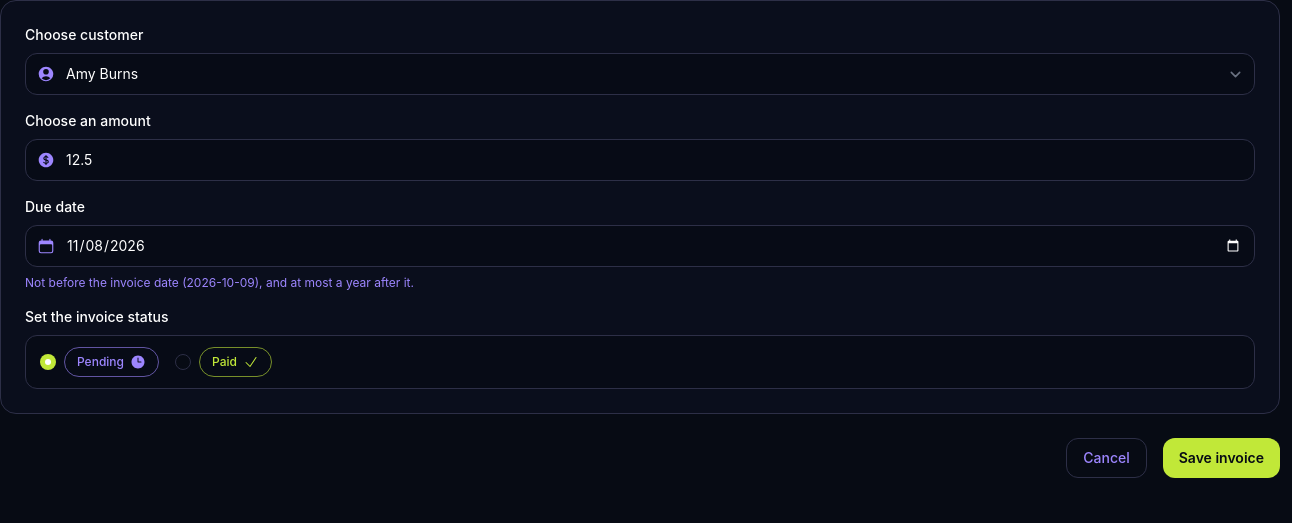
the invoice edit form › refuses a negative amount beside the field, and writes nothing
This screenshot has width=1292, height=523.
Replace the text in the number field labelled "Choose an amount" with "-5" at (640, 160), box [25,139,1255,181]
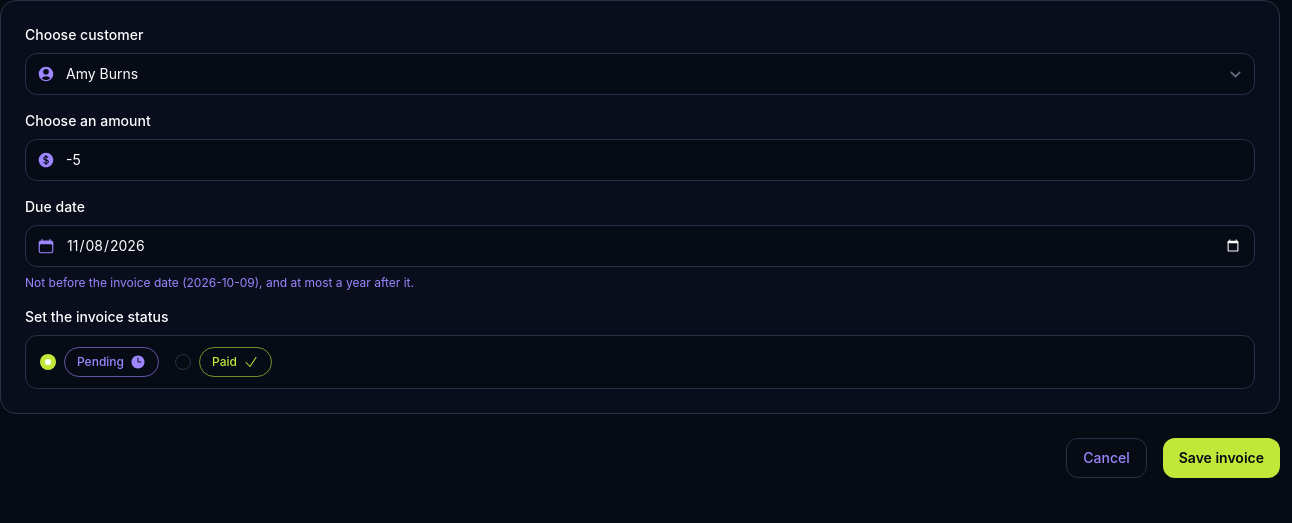
Click the button "Save invoice" at (1221, 458), box [1163,438,1280,478]
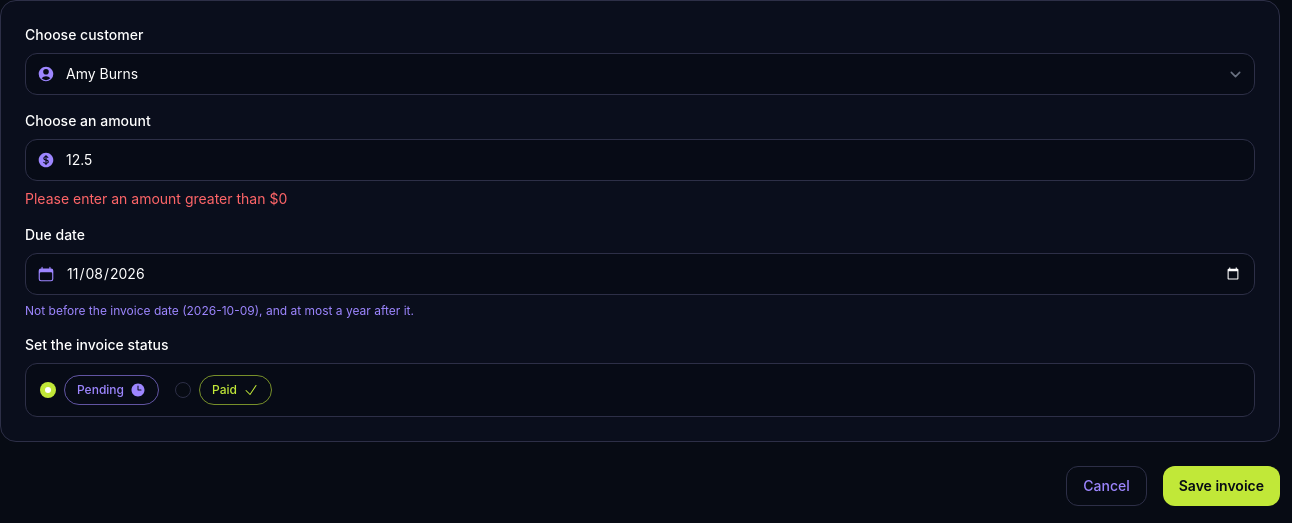
Expected: the element with id "amount-error" is shown, [25,190,287,207]
